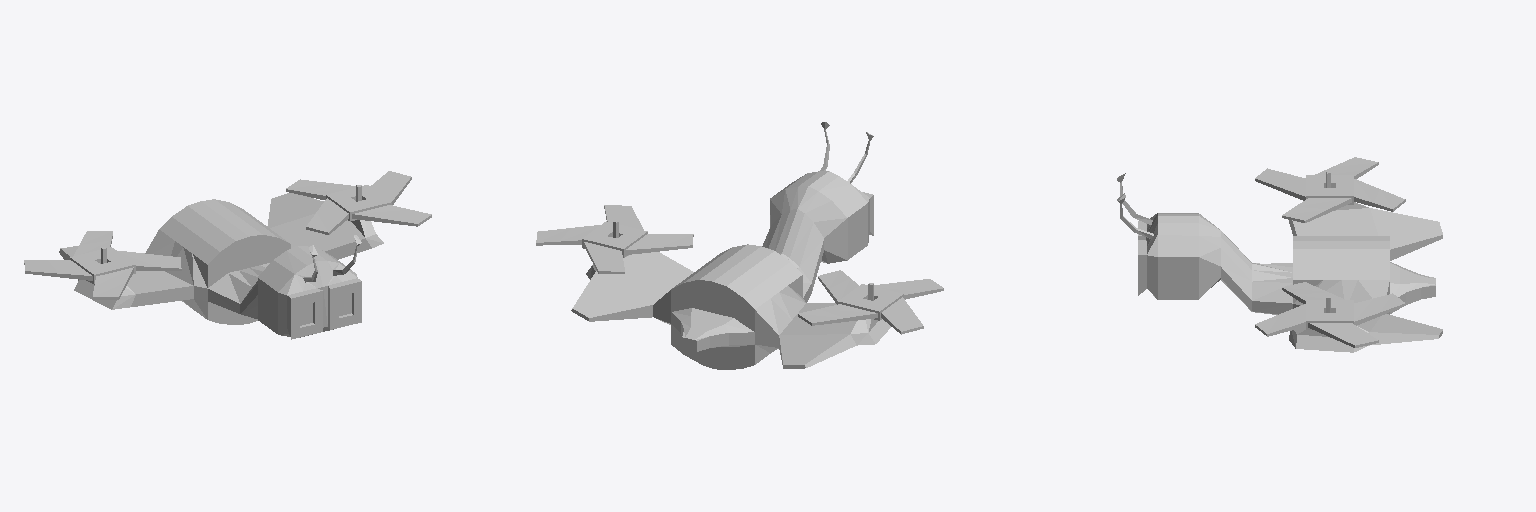
Rendered from Drone.obj.
3 views of the same model, side by side, from view 1: azimuth 30°, elevation 25°; view 2: azimuth 150°, elevation 25°; view 3: azimuth 270°, elevation 25° (orthographic).
Parts seen in each view (by area): view 1: Cube.001_Cube; view 2: Cube.001_Cube; view 3: Cube.001_Cube.
Part boxes in pixels (bbox=[...]): Cube.001_Cube: bbox=[24, 171, 431, 339]; Cube.001_Cube: bbox=[536, 122, 943, 369]; Cube.001_Cube: bbox=[1117, 157, 1442, 352].
Bounding box in the file's own units: 9.23 × 3.33 × 6.76.